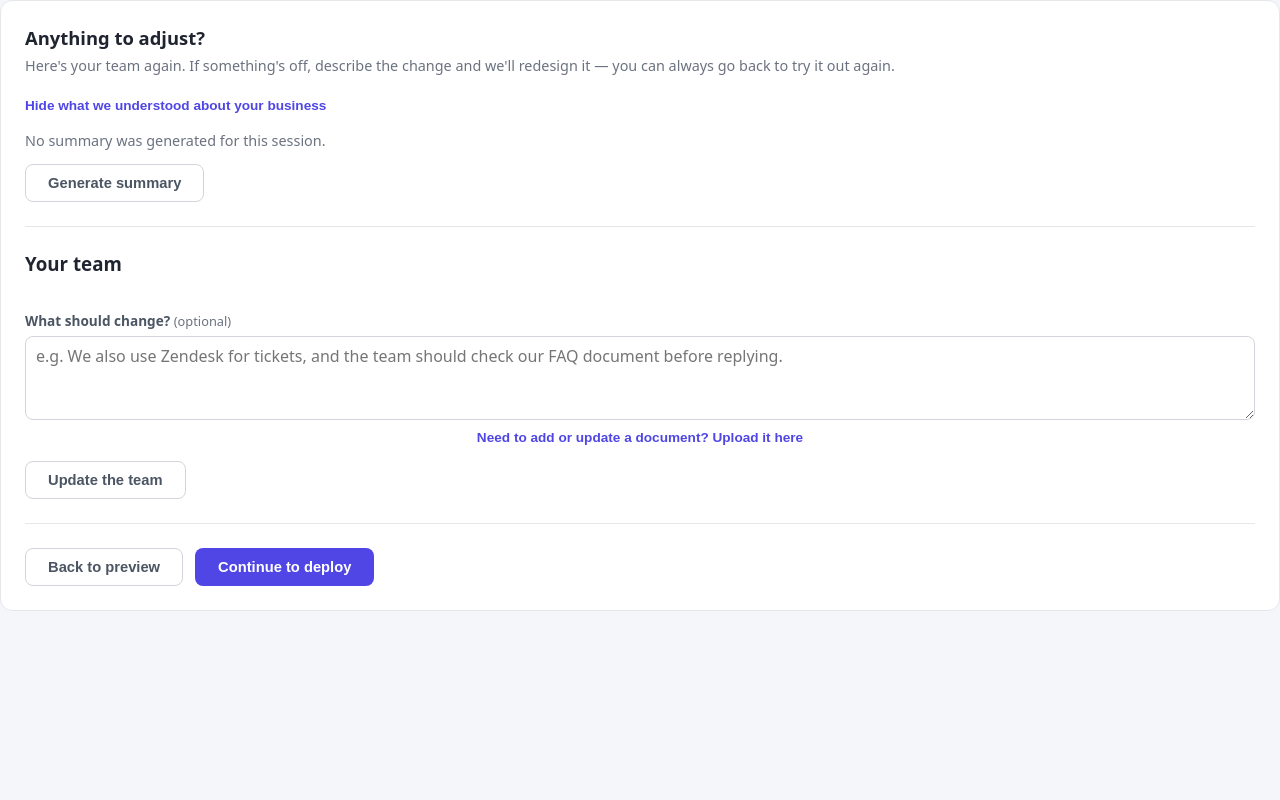
Test: ConfirmPage › when no summary was generated for this session › shows an error if generating the summary fails
Click the button "Generate summary" at (115, 183), box top-left (25, 164), bottom-right (204, 202)
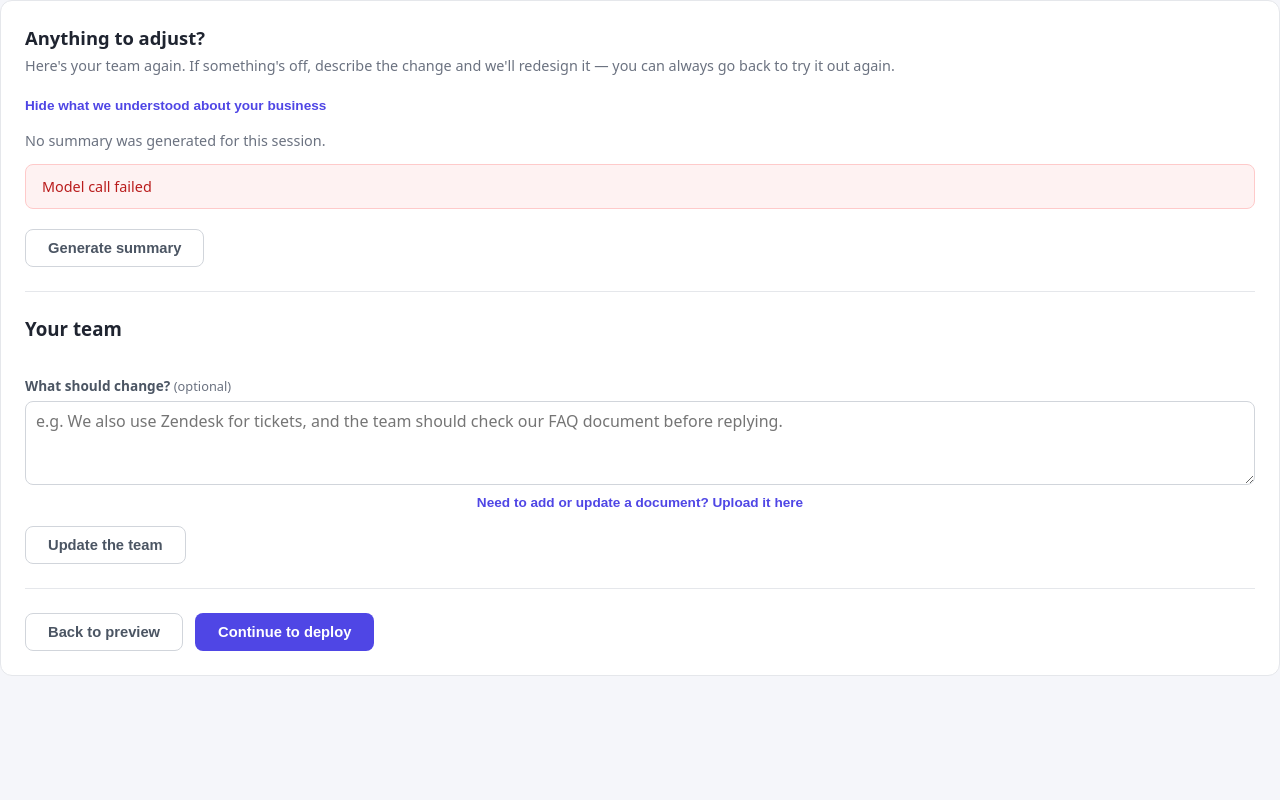
Now the text "Model call failed" is shown, box top-left (25, 164), bottom-right (1255, 209)
